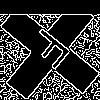F: (25, 25, 80, 78)
